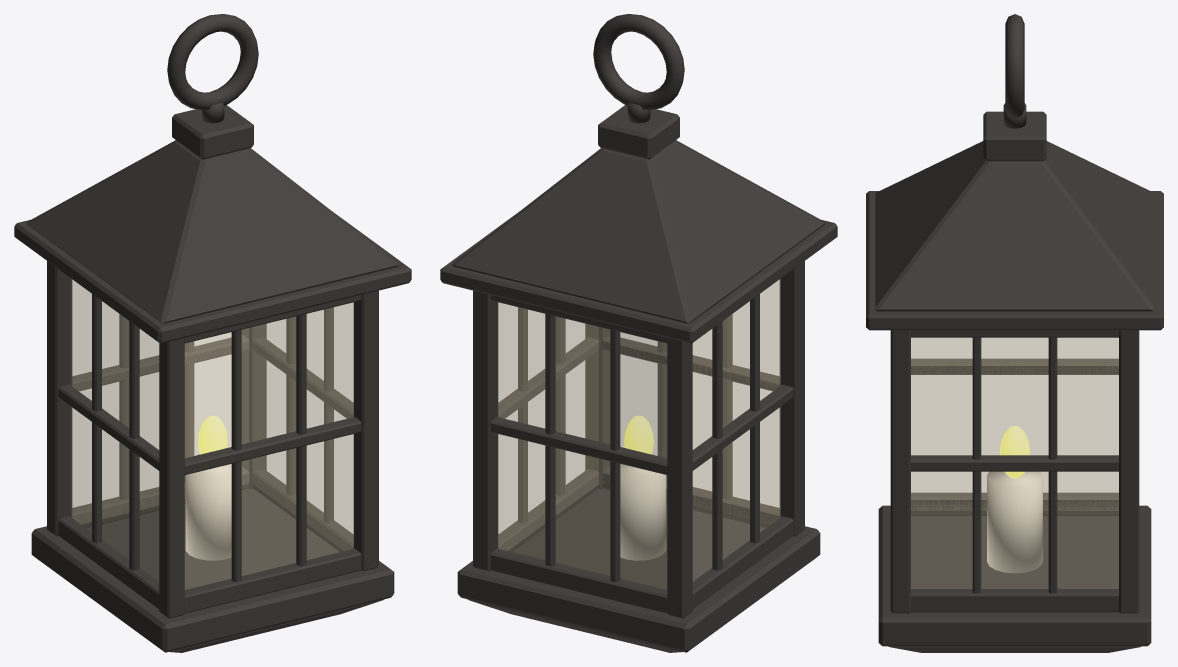
The model's file is iron-lantern_final.glb.
The picture shows the model from 3 angles, left to right: view 1: azimuth 30°, elevation 25°; view 2: azimuth 150°, elevation 25°; view 3: azimuth 270°, elevation 25°; orthographic projection.
Visible parts, largest first — view 1: SM_IronLantern_Frame, SM_IronLantern_Glass, SM_IronLantern_Roof, SM_IronLantern_Base, SM_IronLantern_Ring, SM_IronLantern_Candle, SM_IronLantern_Flame; view 2: SM_IronLantern_Frame, SM_IronLantern_Glass, SM_IronLantern_Roof, SM_IronLantern_Base, SM_IronLantern_Ring, SM_IronLantern_Candle, SM_IronLantern_Flame; view 3: SM_IronLantern_Roof, SM_IronLantern_Glass, SM_IronLantern_Frame, SM_IronLantern_Base, SM_IronLantern_Candle, SM_IronLantern_Ring, SM_IronLantern_Flame.
Part boxes in pixels (x1,y1,x2,y2): SM_IronLantern_Frame: [47, 261, 378, 618]; SM_IronLantern_Glass: [71, 279, 353, 589]; SM_IronLantern_Roof: [14, 105, 411, 343]; SM_IronLantern_Base: [31, 488, 394, 652]; SM_IronLantern_Ring: [167, 14, 258, 123]; SM_IronLantern_Candle: [185, 454, 231, 560]; SM_IronLantern_Flame: [198, 415, 227, 454]; SM_IronLantern_Frame: [473, 261, 804, 618]; SM_IronLantern_Glass: [498, 279, 780, 589]; SM_IronLantern_Roof: [440, 105, 837, 343]; SM_IronLantern_Base: [457, 488, 820, 652]; SM_IronLantern_Ring: [593, 14, 684, 123]; SM_IronLantern_Candle: [620, 454, 666, 560]; SM_IronLantern_Flame: [624, 415, 653, 454]; SM_IronLantern_Roof: [866, 111, 1163, 330]; SM_IronLantern_Glass: [911, 337, 1118, 588]; SM_IronLantern_Frame: [890, 330, 1139, 613]; SM_IronLantern_Base: [878, 505, 1151, 652]; SM_IronLantern_Candle: [987, 471, 1042, 573]; SM_IronLantern_Ring: [1003, 14, 1026, 128]; SM_IronLantern_Flame: [999, 426, 1030, 478].
Bounding box in the file's own units: 0.235 × 0.5175 × 0.235.
